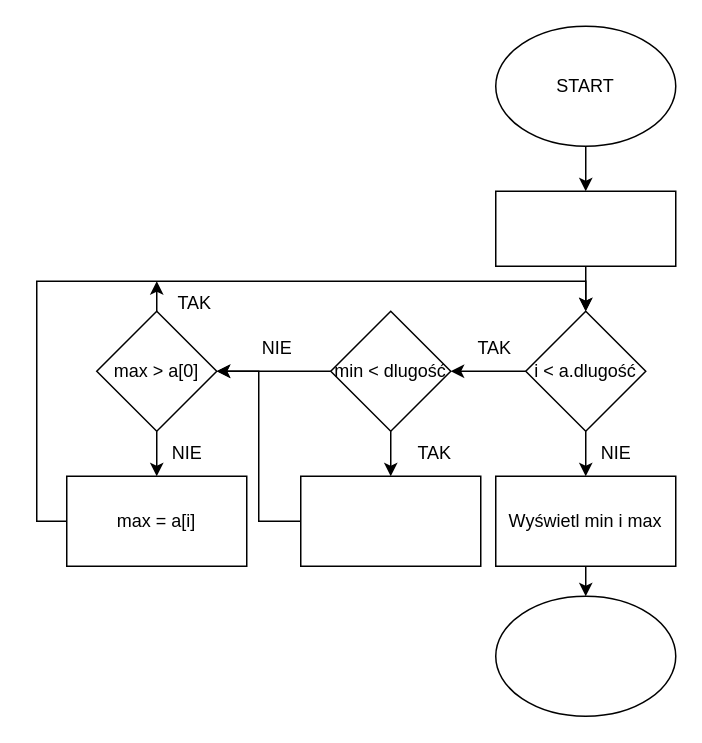
This 702x743 diagram has some shape labels left out. The centre of each missing label's shape, as x and y in pixels:
"min = a[i]" belongs at [390,520].
"Pobierz a i = 0 max = a[0] min = a[0]" belongs at [585,228].
"STOP" belongs at [585,655].
